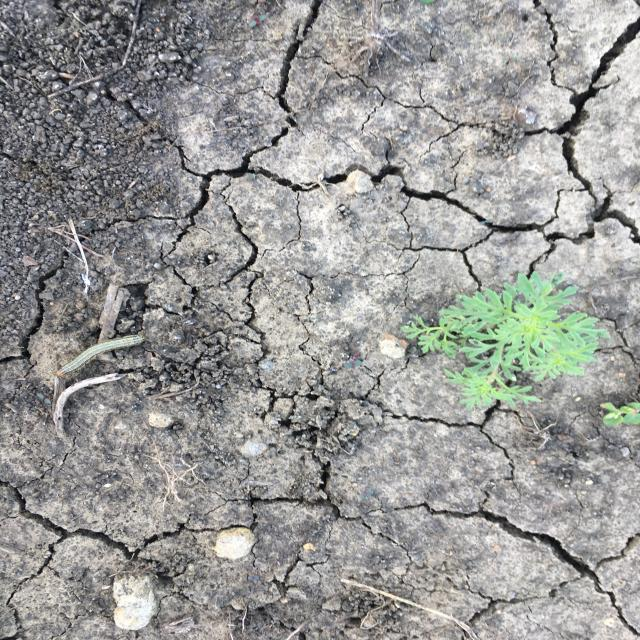Ragweed: (396, 269, 616, 410)
